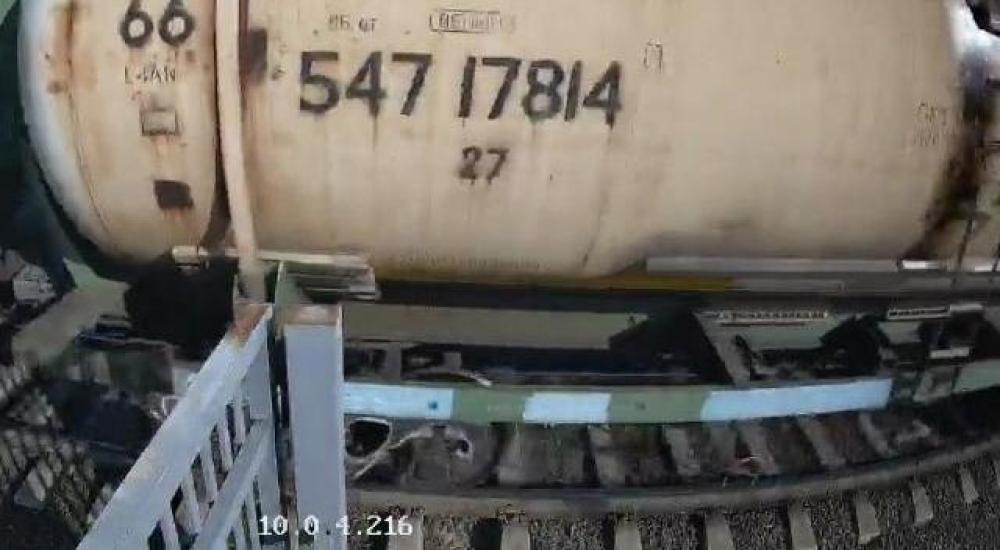Wagon-number: (294, 45, 626, 134)
